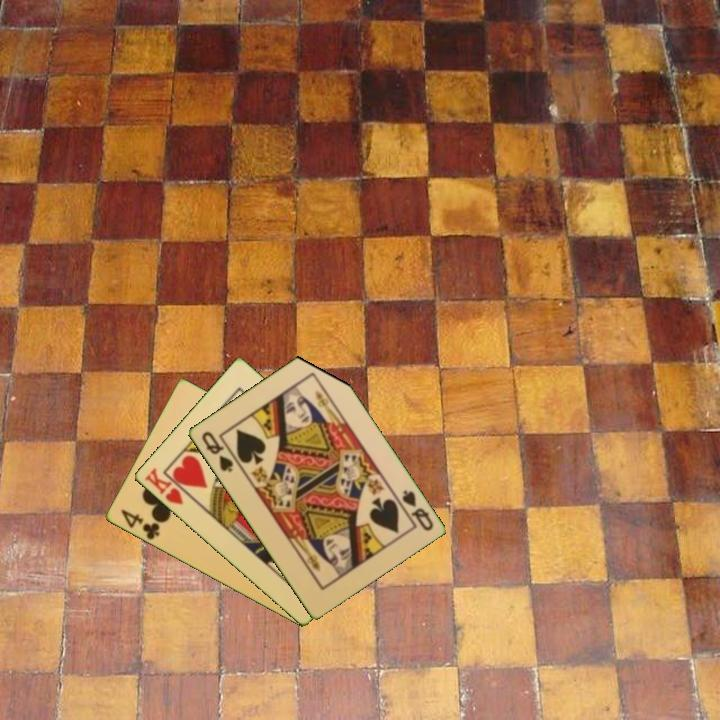4c: (117, 506, 162, 543)
Kh: (141, 464, 195, 508)
Qs: (392, 486, 436, 534), (197, 428, 236, 476)
